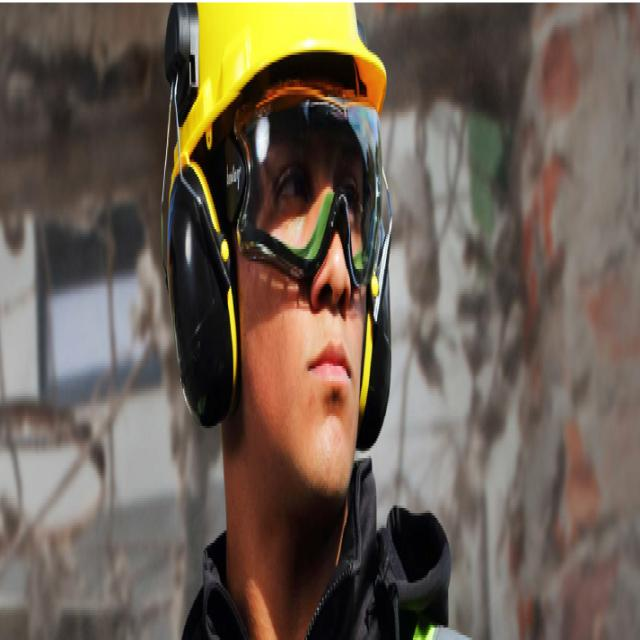Ear Muffs: (156, 137, 246, 440), (358, 208, 397, 444)
Hard Hat: (156, 0, 397, 157)
Safety Glasses: (237, 88, 388, 275)
